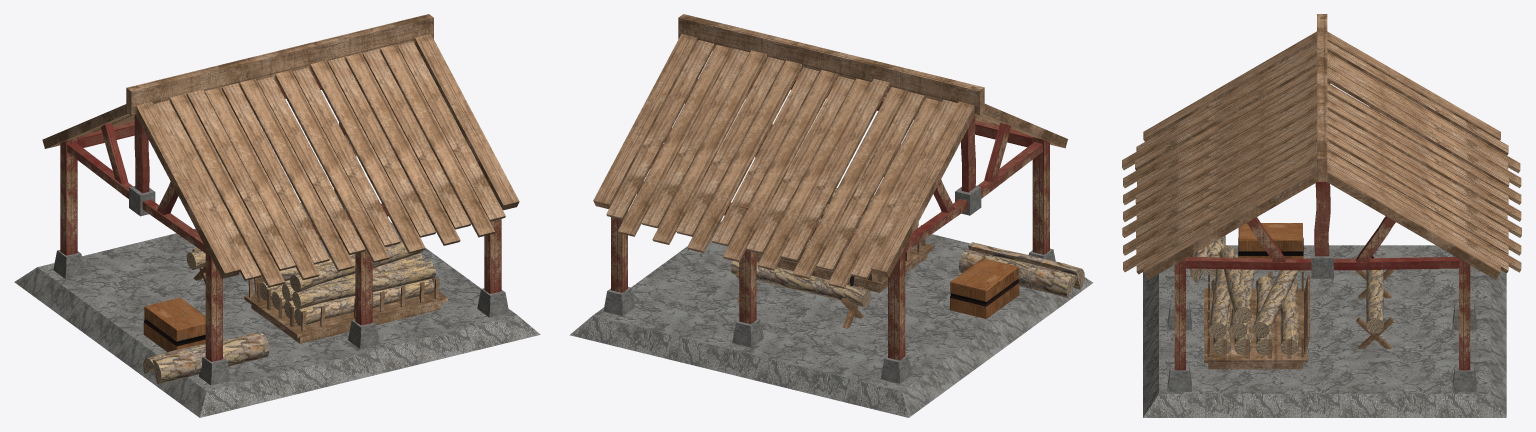
The model's file is sawmill.fbx.
3 views of the same model, side by side, from view 1: azimuth 30°, elevation 25°; view 2: azimuth 150°, elevation 25°; view 3: azimuth 270°, elevation 25° (orthographic). The views are drawn at different scales.
Parts seen in each view (by area): view 1: pCube12, pasted__pasted__pasted__pasted__pasted__pasted__pasted__pas. (×6), pCube4, pasted__pasted__pCube4.003, pasted__pasted__pasted__pasted__pasted__pasted__pCube4, pasted__pasted__pasted__pasted__pasted__pasted__pasted__pCub, pasted__pasted__pasted__pasted__pCube4, pasted__pasted__pasted__pasted__pasted__pCube4, pasted__pasted__pasted__pCube4, pasted__pasted__pasted__pasted__pCube4.001, pasted__pasted__pasted__pasted__pasted__pCube4.001, pasted__pasted__pasted__pasted__pasted__pasted__pasted__pCu. (+25 smaller); view 2: pCube12, pasted__pasted__pasted__pasted__pasted__pasted__pasted__pas. (×4), pasted__pasted__pasted__pasted__pasted__pasted__pasted__pCu. (×2), pCube4, pasted__pCube4.001, pasted__pasted__pasted__pasted__pCube4.003, pasted__pasted__pasted__pasted__pasted__pasted__pCube4.003, pasted__pasted__pasted__pasted__pCube4.002, pasted__pasted__pasted__pCube4.002, pasted__pasted__pasted__pasted__pasted__pCube4.003, pasted__pasted__pCube4, pasted__pasted__pasted__pCube4.003 (+22 smaller); view 3: pCube12, pasted__pasted__pasted__pasted__pasted__pasted__pasted__pas. (×10), pasted__pasted__pasted__pasted__pasted__pasted__pasted__pCu. (×3), pasted__pasted__pasted__pCube4, pasted__pasted__pCube4, pasted__pasted__pCube3, pasted__pCube9.001, pasted__pasted__pasted__pasted__pasted__pasted__pCube4.003, pasted__pasted__pasted__pasted__pCube4.002, pasted__pasted__pasted__pasted__pCube4, pasted__pasted__pasted__pasted__pasted__pasted__pasted__pCub, pasted__pasted__pCube4.002 (+34 smaller).
Boxes of the visible parts, <box> form: pCube12: <box>14,203,540,417</box>; pasted__pasted__pasted__pasted__pasted__pasted__pasted__pas. (×6): <box>154,79,354,287</box>; pCube4: <box>126,14,433,115</box>; pasted__pasted__pCube4.003: <box>136,102,240,278</box>; pasted__pasted__pasted__pasted__pasted__pasted__pCube4: <box>310,60,425,253</box>; pasted__pasted__pasted__pasted__pasted__pasted__pasted__pCub: <box>275,70,390,262</box>; pasted__pasted__pasted__pasted__pCube4: <box>380,44,495,237</box>; pasted__pasted__pasted__pasted__pasted__pCube4: <box>345,53,460,245</box>; pasted__pasted__pasted__pCube4: <box>415,34,519,210</box>; pasted__pasted__pasted__pasted__pCube4.001: <box>363,49,470,229</box>; pasted__pasted__pasted__pasted__pasted__pCube4.001: <box>327,57,435,237</box>; pasted__pasted__pasted__pasted__pasted__pasted__pasted__pCu.: <box>257,77,365,254</box>; pCube12: <box>569,221,1092,417</box>; pasted__pasted__pasted__pasted__pasted__pasted__pasted__pas. (×4): <box>606,40,766,244</box>; pasted__pasted__pasted__pasted__pasted__pasted__pasted__pCu. (×2): <box>676,57,801,252</box>; pCube4: <box>678,14,984,114</box>; pasted__pCube4.001: <box>870,101,975,277</box>; pasted__pasted__pasted__pasted__pCube4.003: <box>792,87,907,278</box>; pasted__pasted__pasted__pasted__pasted__pasted__pCube4.003: <box>722,70,837,262</box>; pasted__pasted__pasted__pasted__pCube4.002: <box>781,78,889,261</box>; pasted__pasted__pasted__pCube4.002: <box>816,92,924,271</box>; pasted__pasted__pasted__pasted__pasted__pCube4.003: <box>757,78,871,270</box>; pasted__pasted__pCube4: <box>593,34,697,209</box>; pasted__pasted__pasted__pCube4.003: <box>828,98,941,288</box>; pCube12: <box>1143,245,1506,417</box>; pasted__pasted__pasted__pasted__pasted__pasted__pasted__pas. (×10): <box>1122,42,1521,273</box>; pasted__pasted__pasted__pasted__pasted__pasted__pasted__pCu. (×3): <box>1135,93,1521,237</box>; pasted__pasted__pasted__pCube4: <box>1143,164,1316,279</box>; pasted__pasted__pCube4: <box>1327,164,1500,279</box>; pasted__pasted__pCube3: <box>1186,256,1458,270</box>; pasted__pCube9.001: <box>1204,288,1307,363</box>; pasted__pasted__pasted__pasted__pasted__pasted__pCube4.003: <box>1327,99,1521,221</box>; pasted__pasted__pasted__pasted__pCube4.002: <box>1327,70,1509,186</box>; pasted__pasted__pasted__pasted__pCube4: <box>1123,150,1316,271</box>; pasted__pasted__pasted__pasted__pasted__pasted__pasted__pCub: <box>1123,100,1316,221</box>; pasted__pasted__pCube4.002: <box>1327,41,1508,155</box>.
Size of the model in its own units: 1798 by 1237 by 1787.
